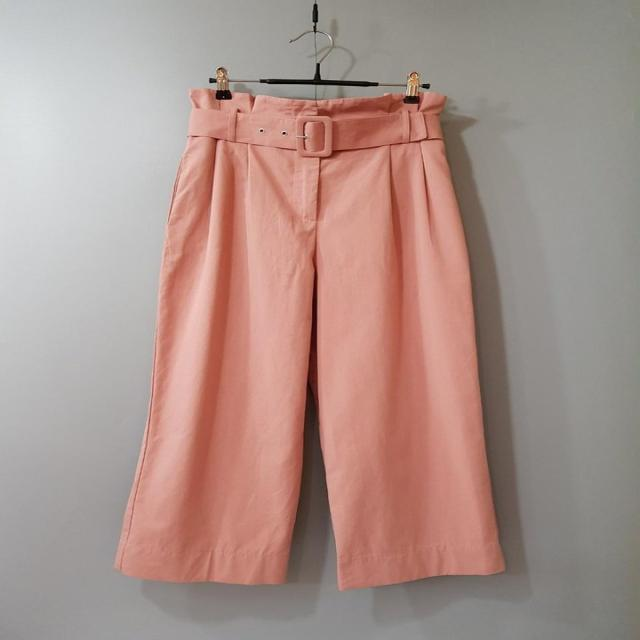long-pants: (116, 88, 513, 589)
